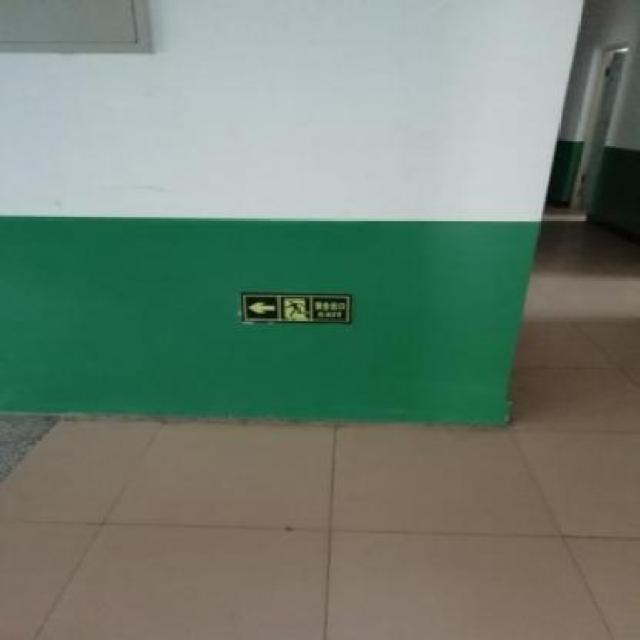exit_sign: (232, 291, 362, 334)
